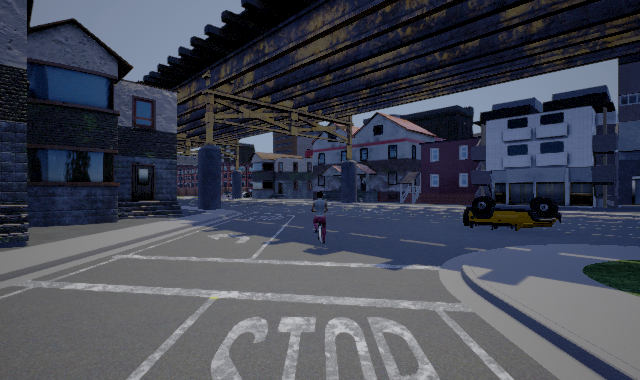bike: (303, 191, 334, 249)
vehicle: (463, 196, 562, 231)
